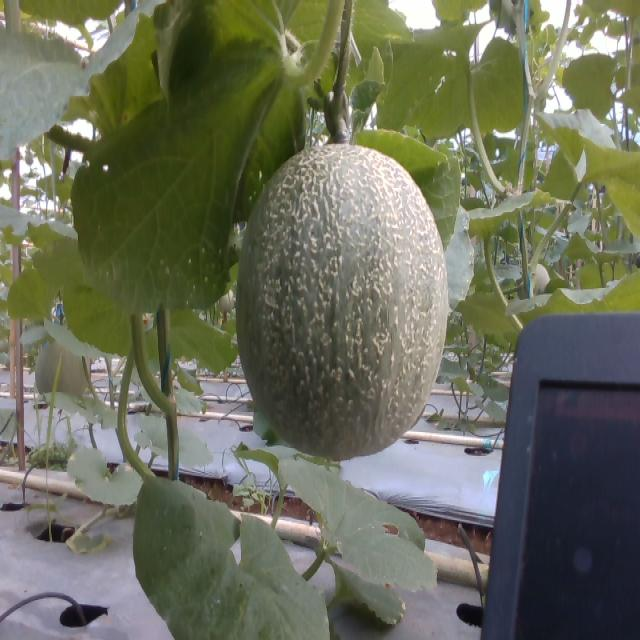melon: (238, 144, 449, 461)
